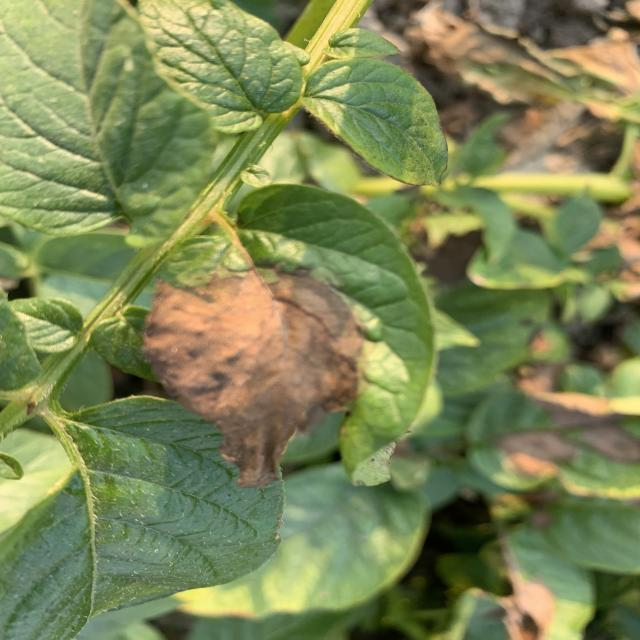lateblight: (143, 265, 365, 488)
